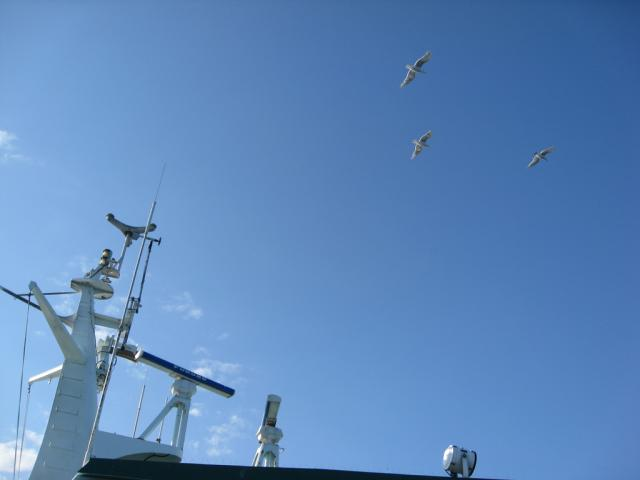Bird: (398, 50, 430, 86), (528, 146, 554, 166), (414, 131, 430, 157)
